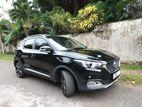car: (15, 34, 121, 97)
